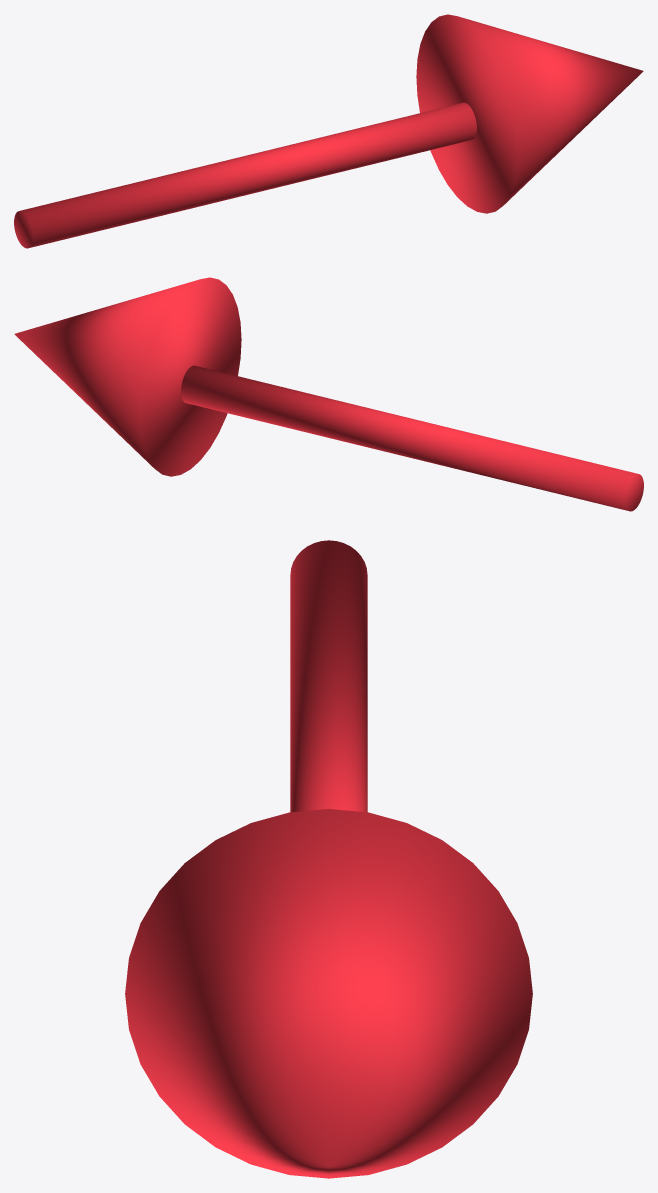
Rendered from yagirusi.fbx.
3 views of the same model, one above another, from view 1: azimuth 30°, elevation 25°; view 2: azimuth 150°, elevation 25°; view 3: azimuth 270°, elevation 25° (orthographic). The views are drawn at different scales.
Parts seen in each view (by area): view 1: 円錐, 円柱; view 2: 円錐, 円柱; view 3: 円錐, 円柱.
Part boxes in pixels (x1,y1,x2,y2): 円錐: [416, 14, 643, 213]; 円柱: [14, 102, 476, 248]; 円錐: [14, 277, 241, 476]; 円柱: [181, 365, 643, 511]; 円錐: [125, 809, 532, 1178]; 円柱: [290, 540, 367, 812].
Size of the model in its own units: 2.4 by 0.684 by 0.684.
